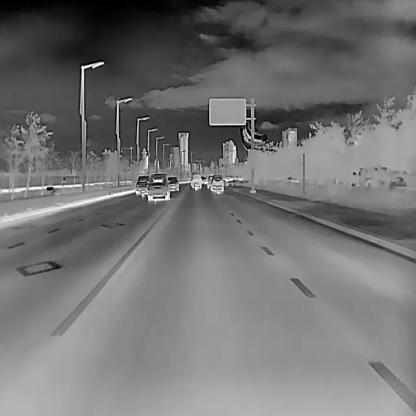car: (146, 172, 170, 199), (134, 175, 152, 196), (210, 174, 224, 192), (190, 172, 202, 190), (166, 175, 179, 191), (205, 175, 214, 189)
